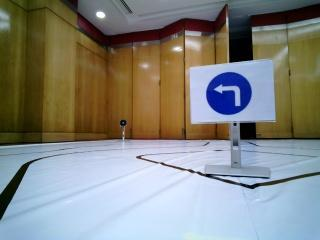left: (190, 71, 266, 115)
